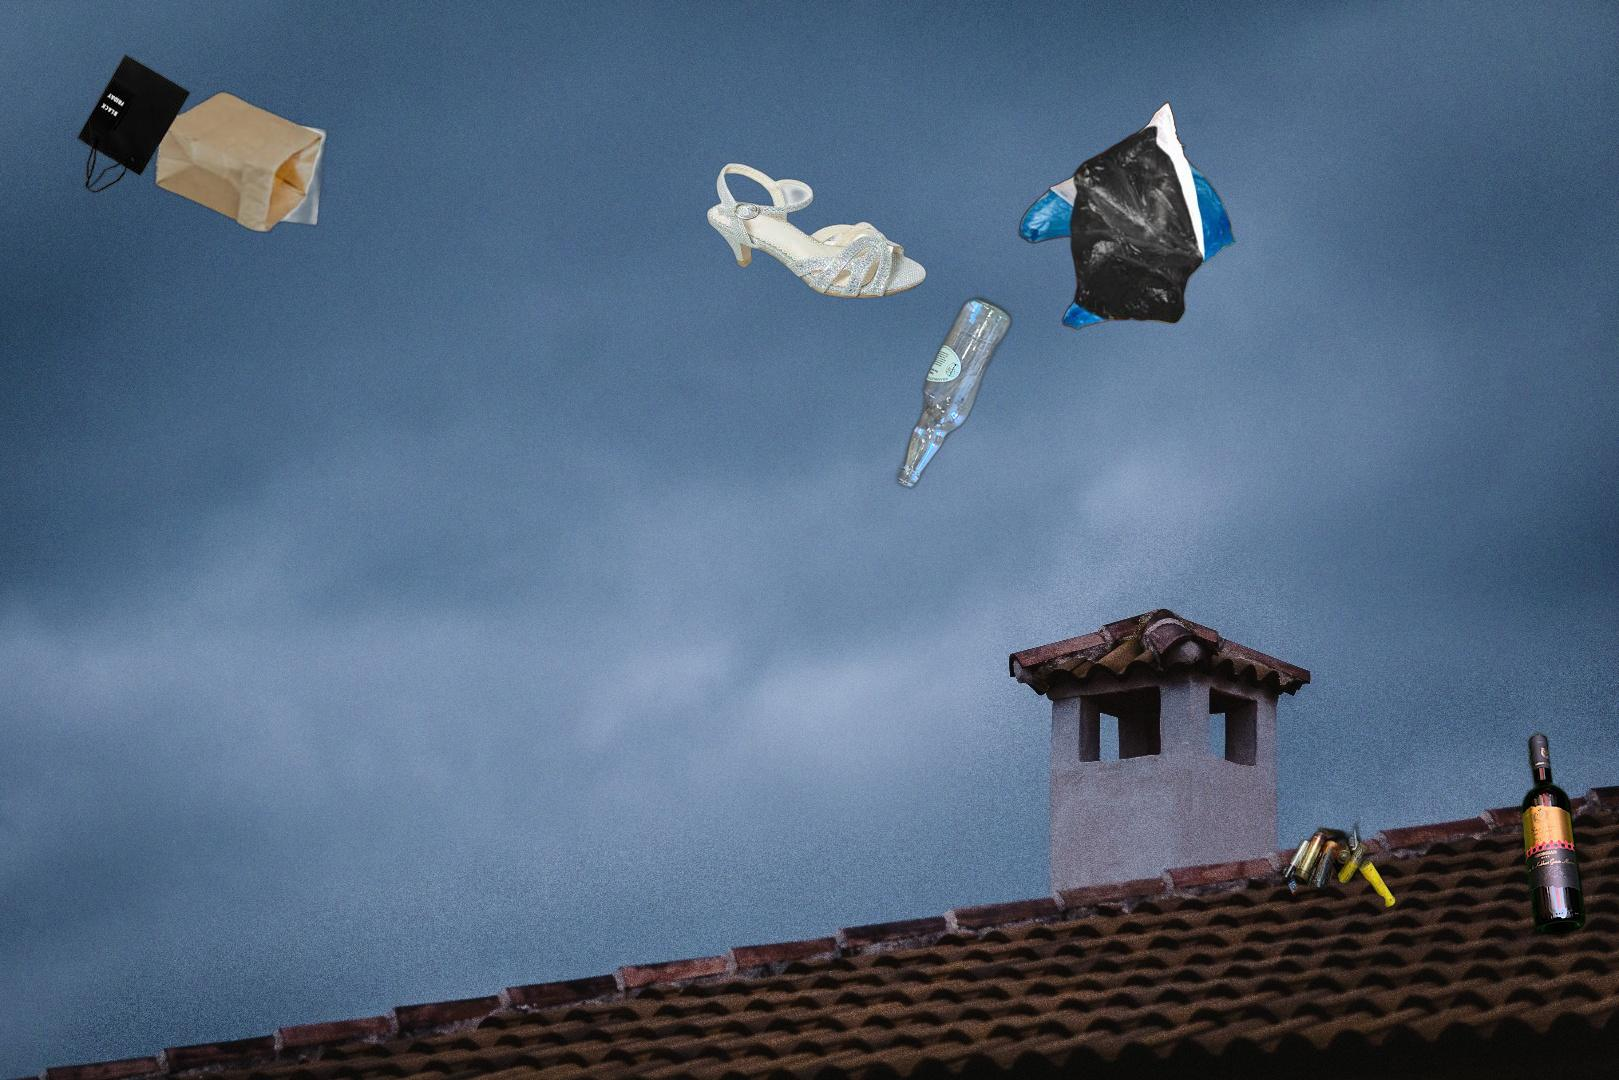battery: (1278, 810, 1412, 941)
glass: (891, 292, 1015, 495), (1517, 727, 1591, 941)
paper-bag: (74, 51, 332, 236)
plastic-bag: (1016, 101, 1238, 333)
shoes: (704, 160, 929, 301)
